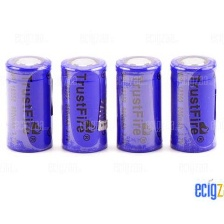battery: (3, 53, 56, 154), (113, 52, 165, 154), (168, 51, 218, 155), (58, 54, 108, 154)
